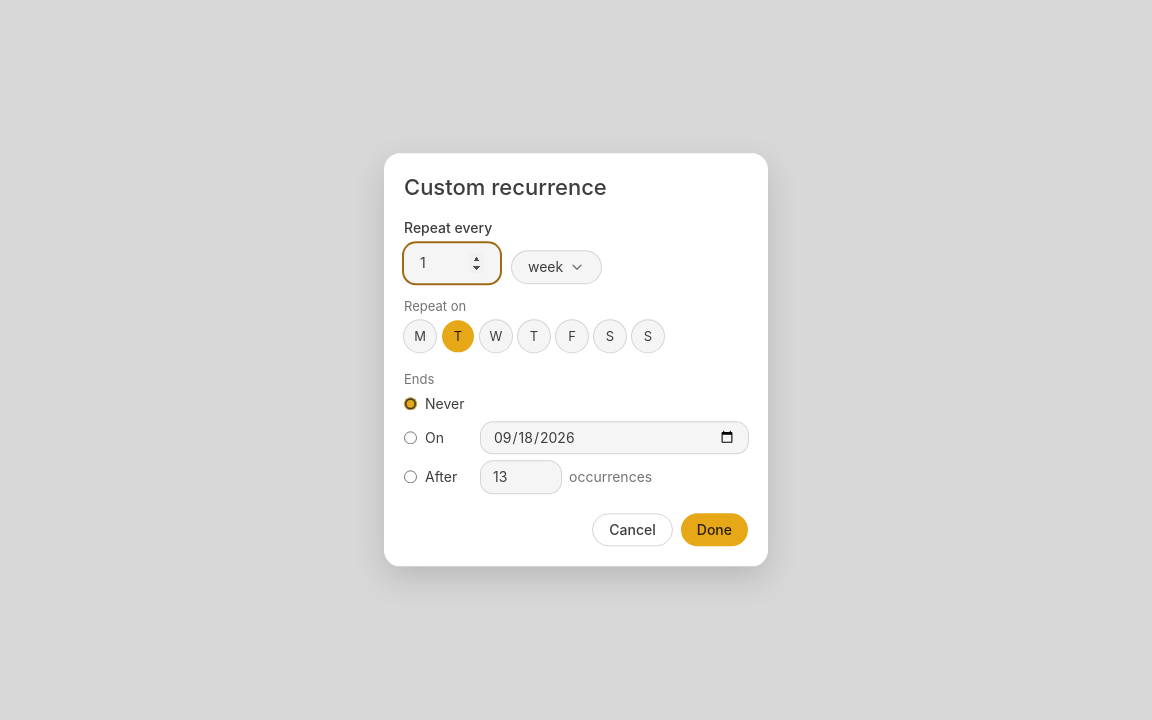
Test: CustomRecurrenceDialog interval validation › re-enables Done once a valid interval replaces an invalid one
Clear the number field labelled "Repeat every" at (452, 263), box [404, 244, 500, 283]
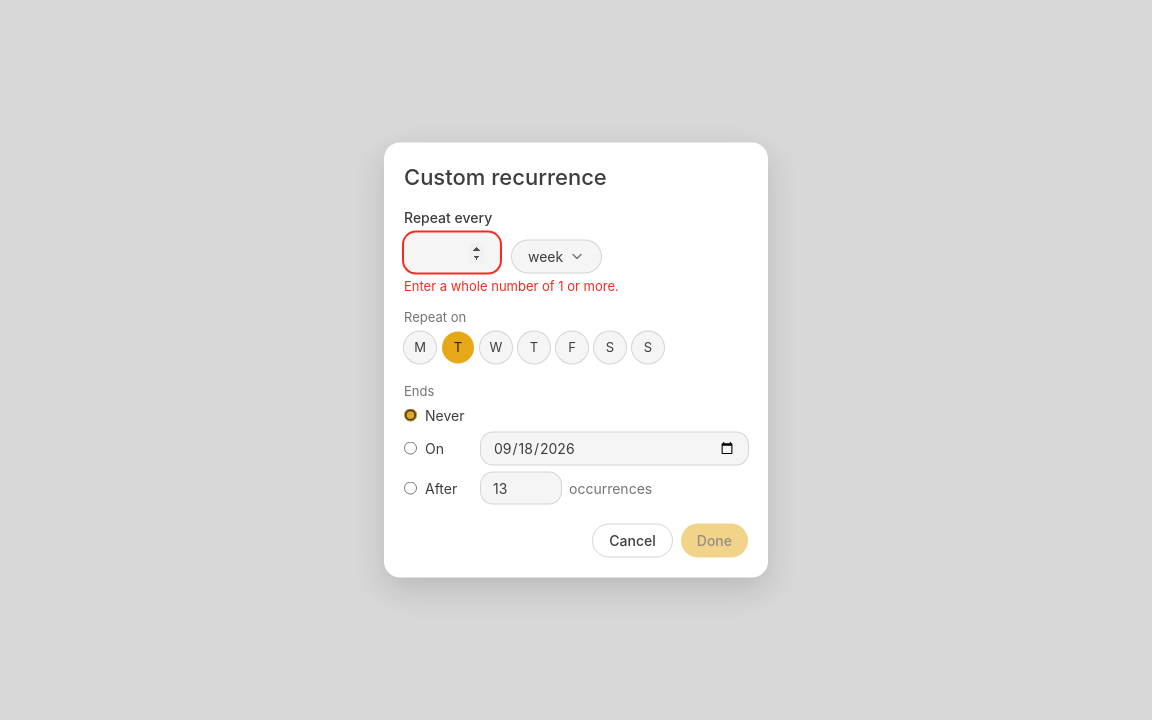
Type "0" into the number field labelled "Repeat every" at (452, 252), box [404, 233, 500, 272]
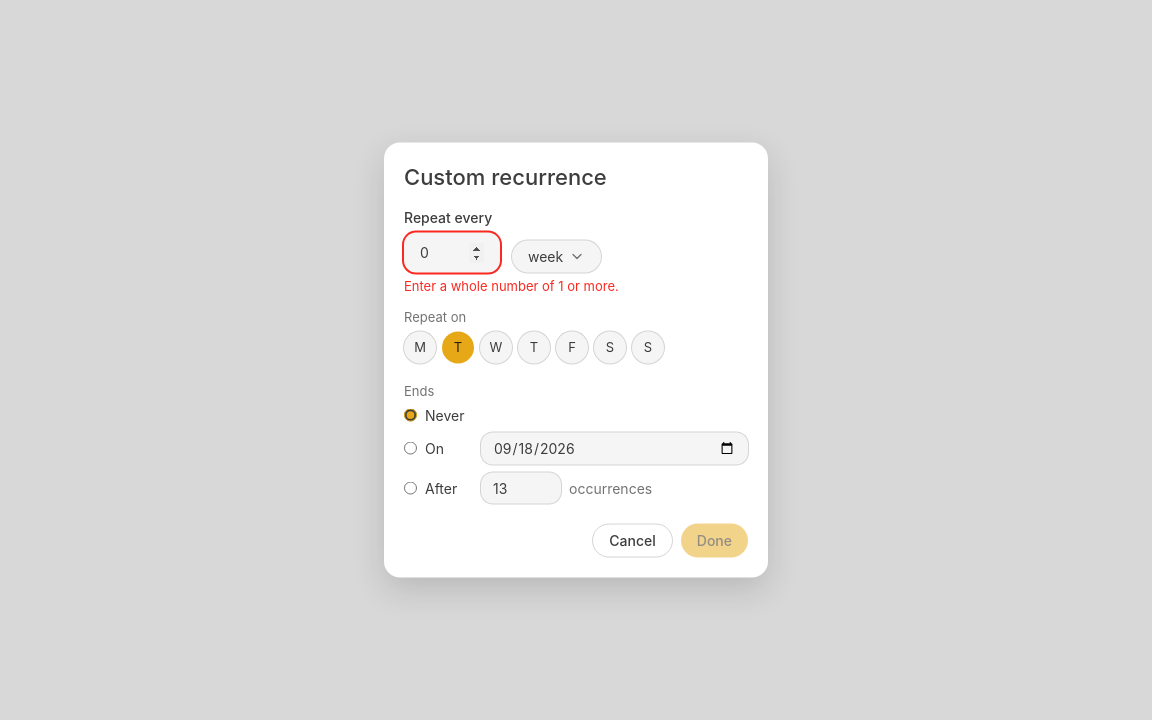
Check: the button "Done" is disabled, box [681, 524, 748, 558]
Replace the text in the number field labelled "Repeat every" with "3" at (452, 252), box [404, 233, 500, 272]
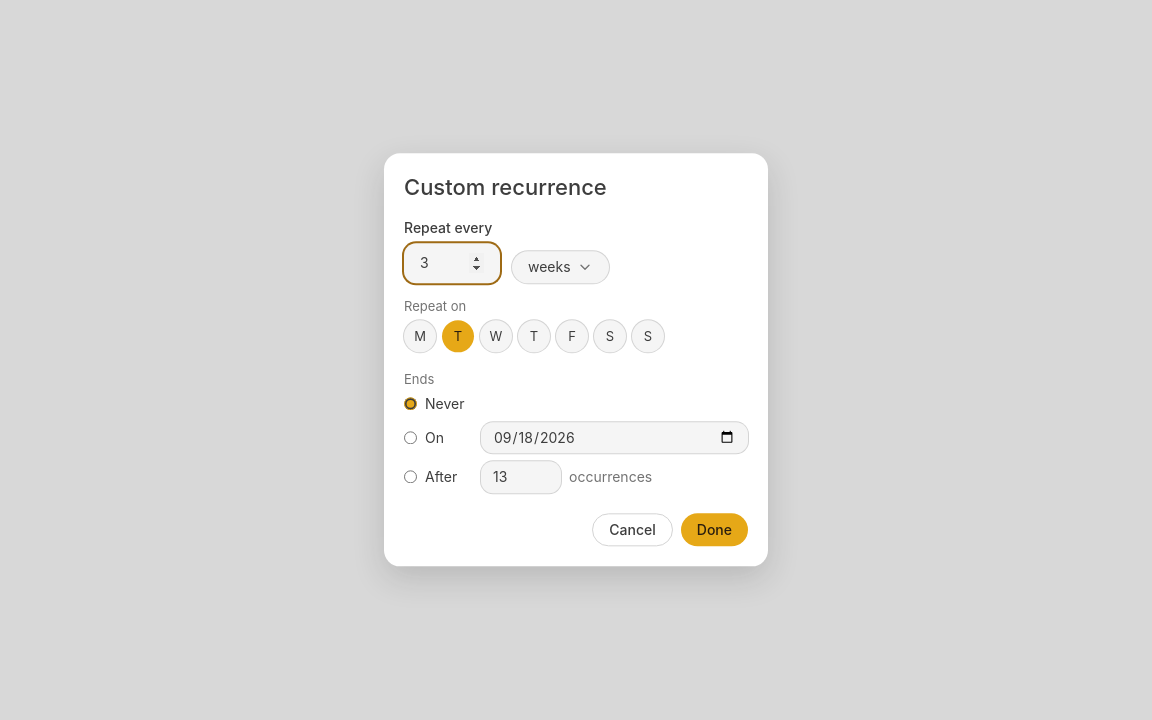
Check: the button "Done" is enabled, box [681, 513, 748, 547]
Check: the message "Enter a whole number of 1 or more." is gone
